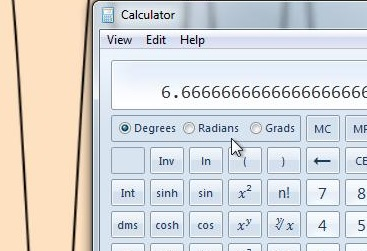cursor: (229, 136, 243, 158)
